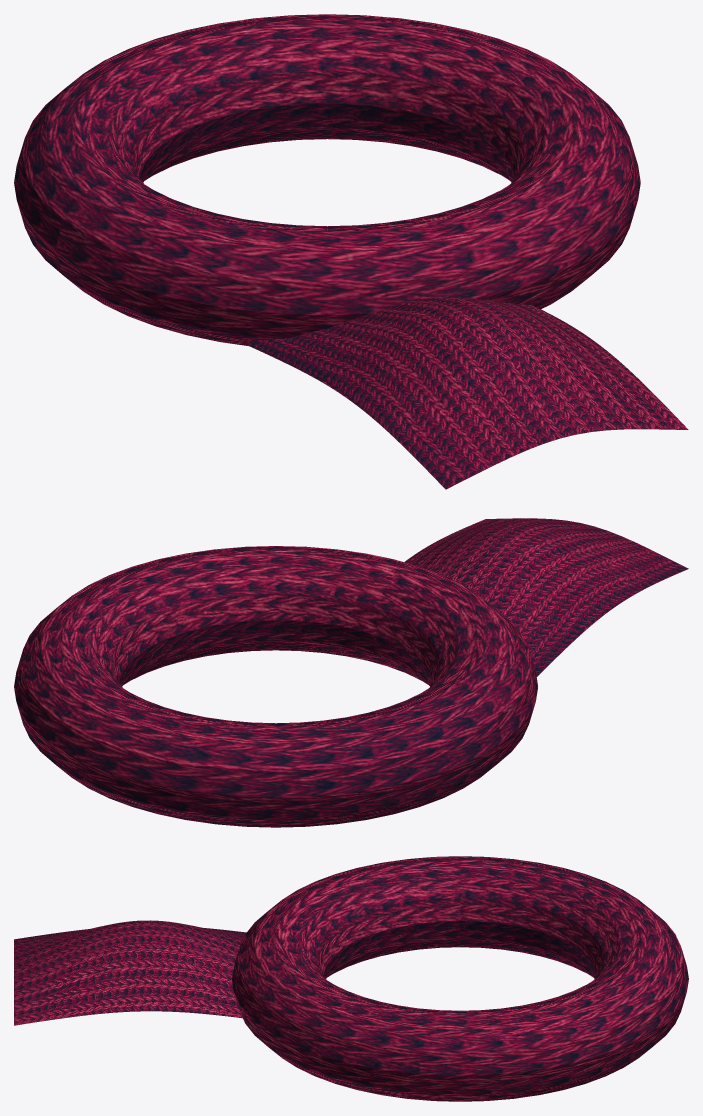
File: clothtrial.obj
3 views of the same model, one above another, from view 1: azimuth 30°, elevation 25°; view 2: azimuth 150°, elevation 25°; view 3: azimuth 270°, elevation 25° (orthographic). The views are drawn at different scales.
Visible parts, largest first — view 1: Torus, SurfPatch; view 2: Torus, SurfPatch; view 3: Torus, SurfPatch.
Boxes of the visible parts, x1,y1,x2,y2 form: Torus: (14,14,640,345); SurfPatch: (246,297,688,489); Torus: (14,546,537,827); SurfPatch: (404,518,688,676); Torus: (232,856,688,1101); SurfPatch: (14,920,246,1025).
Bounding box in the file's own units: 2.16 × 0.4318 × 3.19.
2 materials, 2 textured.
